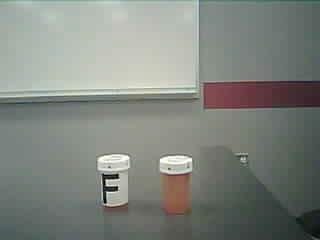Bottle F: (93, 152, 133, 215)
